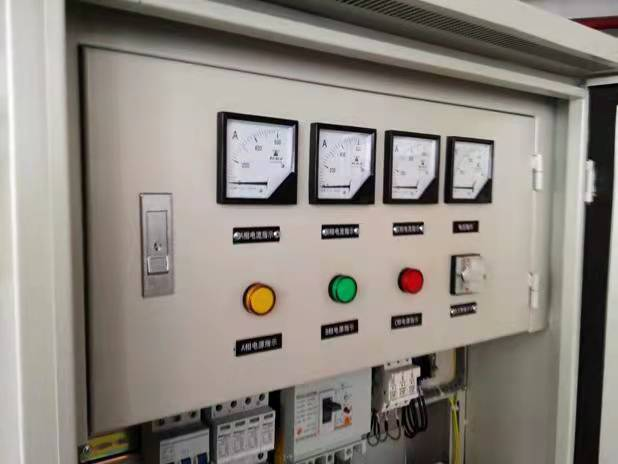pointer: (223, 112, 295, 201), (316, 123, 375, 203), (387, 130, 437, 202), (453, 137, 493, 200)
